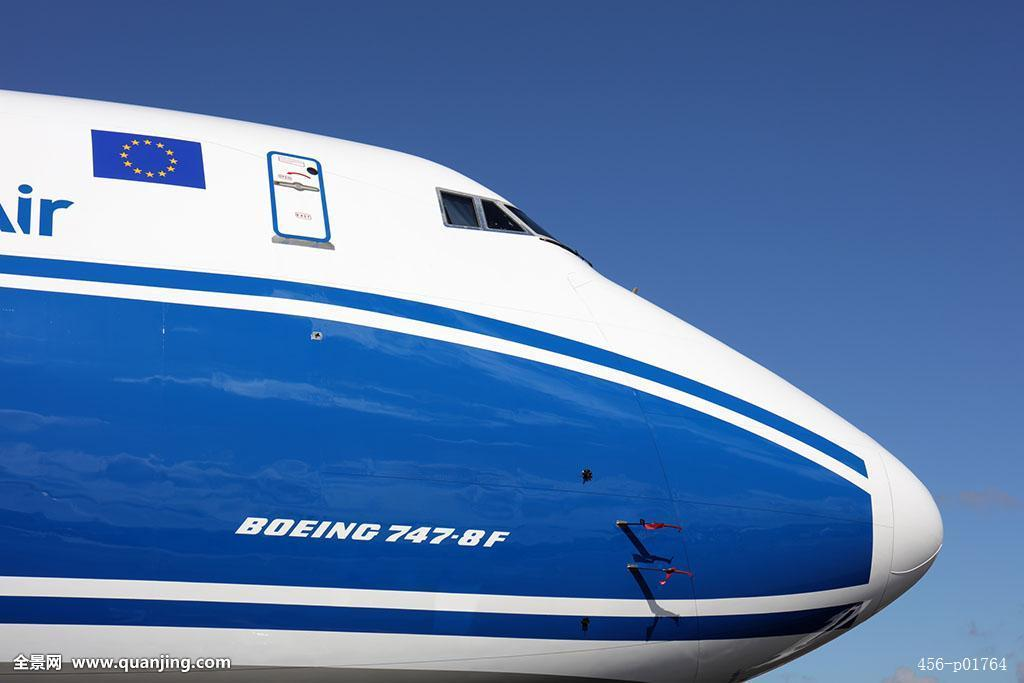airplane: (7, 87, 940, 683)
